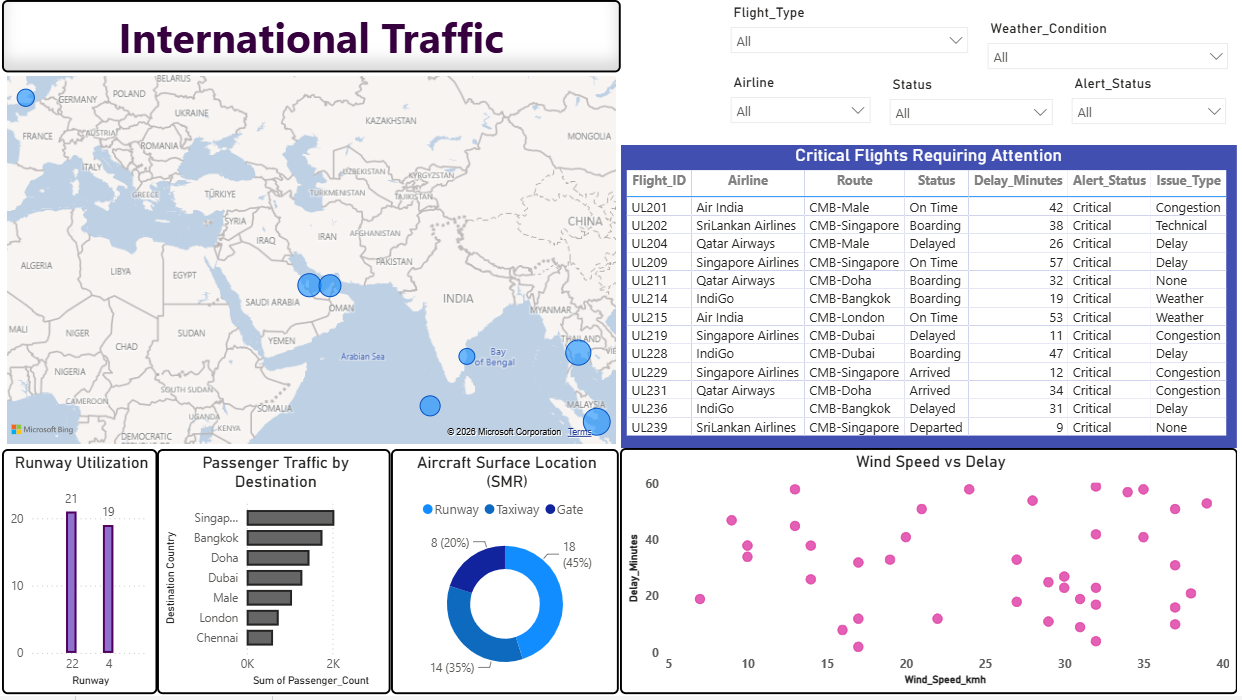

The dashboard page shown, as its layout file describes it:
{"tool":"powerbi","page":{"name":"International Traffic","canvas":[1280,720],"ordinal":2},"visuals":[{"type":"map","title":"Passenger Traffic by Destination","fields":{"Category":["BIA_CMB_Dataset.Destination Country"],"Size":["Sum(BIA_CMB_Dataset.Passenger_Count)"]},"box":[0,73.7,640.8,391.1],"z":0},{"type":"clusteredBarChart","title":"Passenger Traffic by Destination","fields":{"Category":["BIA_CMB_Dataset.Destination Country"],"Y":["Sum(BIA_CMB_Dataset.Passenger_Count)"]},"box":[160.9,464.8,242.2,254.2],"z":1000},{"type":"donutChart","title":"Aircraft Surface Location (SMR)","fields":{"Category":["BIA_CMB_Dataset.SMR_Location"],"Y":["CountNonNull(BIA_CMB_Dataset.SMR_Location)"]},"box":[403.1,464.8,236.1,254.2],"z":2000},{"type":"clusteredColumnChart","title":"Runway Utilization","fields":{"Category":["BIA_CMB_Dataset.Runway"],"Y":["CountNonNull(BIA_CMB_Dataset.Runway)"]},"box":[0,464.8,160.9,254.2],"z":3000},{"type":"tableEx","title":"Critical Flights Requiring Attention","fields":{"Values":["BIA_CMB_Dataset.Flight_ID","BIA_CMB_Dataset.Airline","BIA_CMB_Dataset.Route","BIA_CMB_Dataset.Status","BIA_CMB_Dataset.Delay_Minutes","BIA_CMB_Dataset.Alert_Status","BIA_CMB_Dataset.Issue_Type"]},"box":[640.8,150.4,637.7,314.4],"z":4000},{"type":"scatterChart","title":"Wind Speed vs Delay","fields":{"X":["BIA_CMB_Dataset.Wind_Speed_kmh"],"Y":["BIA_CMB_Dataset.Delay_Minutes"]},"box":[640.3,464.5,640.3,254.8],"z":5000},{"type":"slicer","fields":{"Values":["BIA_CMB_Dataset.Airline"]},"box":[745.2,72.6,164.5,69.4],"z":6000},{"type":"slicer","fields":{"Values":["BIA_CMB_Dataset.Flight_Type"]},"box":[745.2,0,266.1,66.1],"z":7000},{"type":"slicer","fields":{"Values":["BIA_CMB_Dataset.Weather_Condition"]},"box":[1011.3,16.1,269.4,58.1],"z":8000},{"type":"slicer","fields":{"Values":["BIA_CMB_Dataset.Status"]},"box":[909.7,74.2,188.7,67.7],"z":9000},{"type":"slicer","fields":{"Values":["BIA_CMB_Dataset.Alert_Status"]},"box":[1098,73.7,180.5,67.7],"z":10000},{"type":"textbox","box":[0,0,640.8,75.2],"z":11000}]}

Visuals, with their boxes in screenshot pixels (x1, y1, x2, y2), scaled from the page's 1280x720 canvas onto the 1242x700 screenshot:
"Passenger Traffic by Destination" map: 0,72,622,452
"Passenger Traffic by Destination" clusteredBarChart: 156,452,391,699
"Aircraft Surface Location (SMR)" donutChart: 391,452,620,699
"Runway Utilization" clusteredColumnChart: 0,452,156,699
"Critical Flights Requiring Attention" tableEx: 622,146,1241,452
"Wind Speed vs Delay" scatterChart: 621,452,1241,699
slicer - BIA_CMB_Dataset.Airline: 723,71,883,138
slicer - BIA_CMB_Dataset.Flight_Type: 723,0,981,64
slicer - BIA_CMB_Dataset.Weather_Condition: 981,16,1241,72
slicer - BIA_CMB_Dataset.Status: 883,72,1066,138
slicer - BIA_CMB_Dataset.Alert_Status: 1065,72,1241,137
textbox: 0,0,622,73
